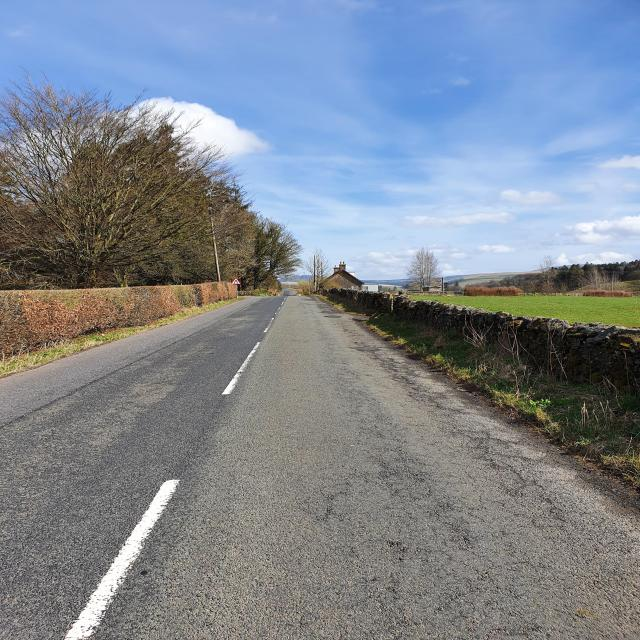Pothole: (301, 296, 640, 544)
